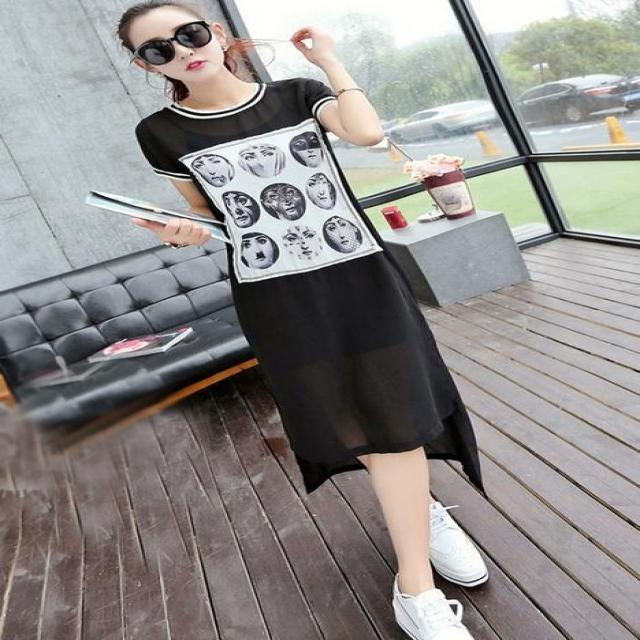short sleeve dress: (141, 79, 481, 494)
